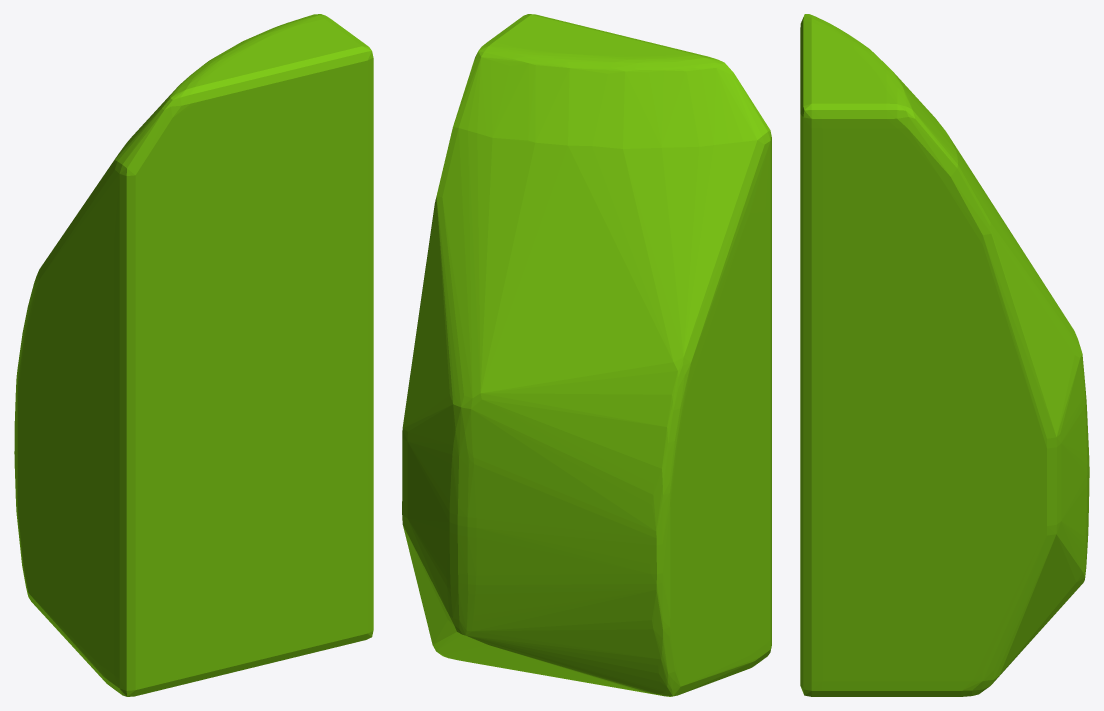
File: right_hip_roll_link_part_4.obj
3 renders of one model, left to right at view 1: azimuth 30°, elevation 25°; view 2: azimuth 150°, elevation 25°; view 3: azimuth 270°, elevation 25°, orthographic.
Bounding box in the file's own units: 0.0336 × 0.0752 × 0.0333.
